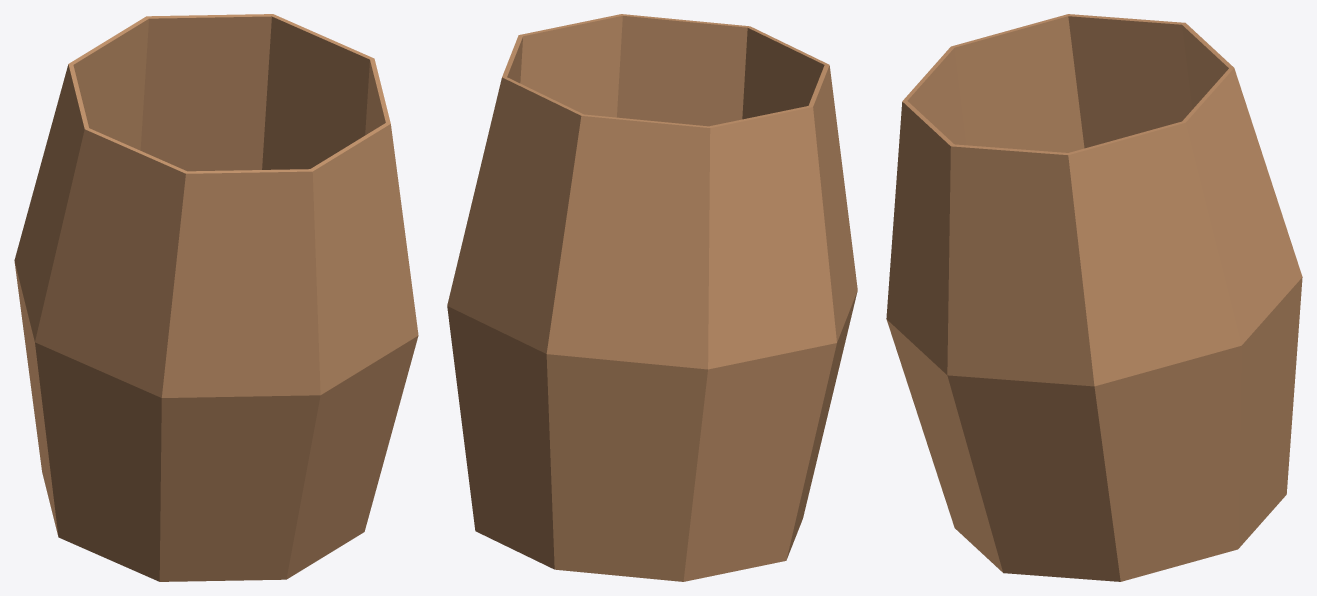
The model's file is VasePetit.fbx.
The picture shows the model from 3 angles, left to right: view 1: azimuth 30°, elevation 25°; view 2: azimuth 150°, elevation 25°; view 3: azimuth 270°, elevation 25°; orthographic projection.
Visible parts, largest first — view 1: Cylinder.016; view 2: Cylinder.016; view 3: Cylinder.016.
Boxes of the visible parts, box(x1,y1,x2,y2) form: Cylinder.016: box(14, 14, 418, 581); Cylinder.016: box(447, 14, 857, 581); Cylinder.016: box(886, 14, 1302, 581).
Bounding box in the file's own units: 11.94 × 14.48 × 11.87.
